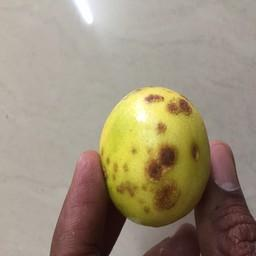Bad_lime: (96, 83, 209, 227)
